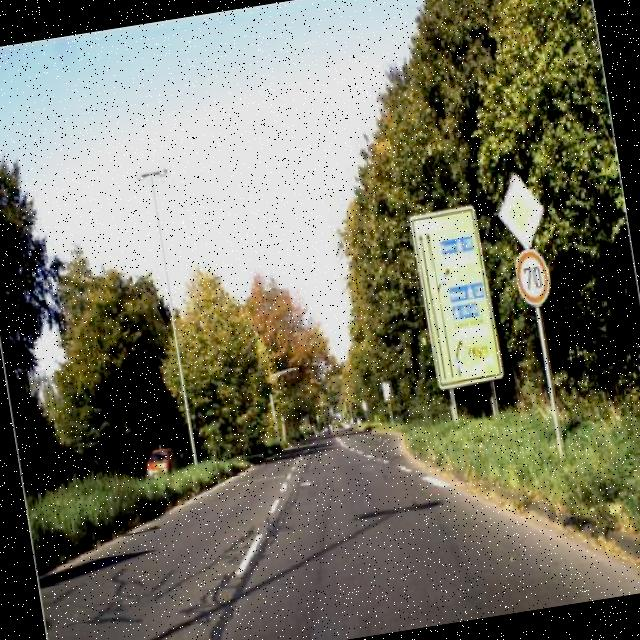Ograniczenie predkosci do 70: (511, 246, 555, 311)
